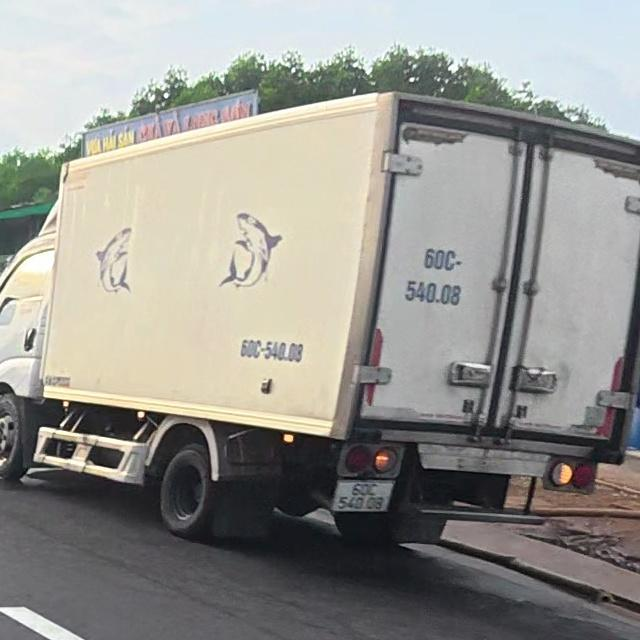license-plate: (334, 481, 394, 512)
